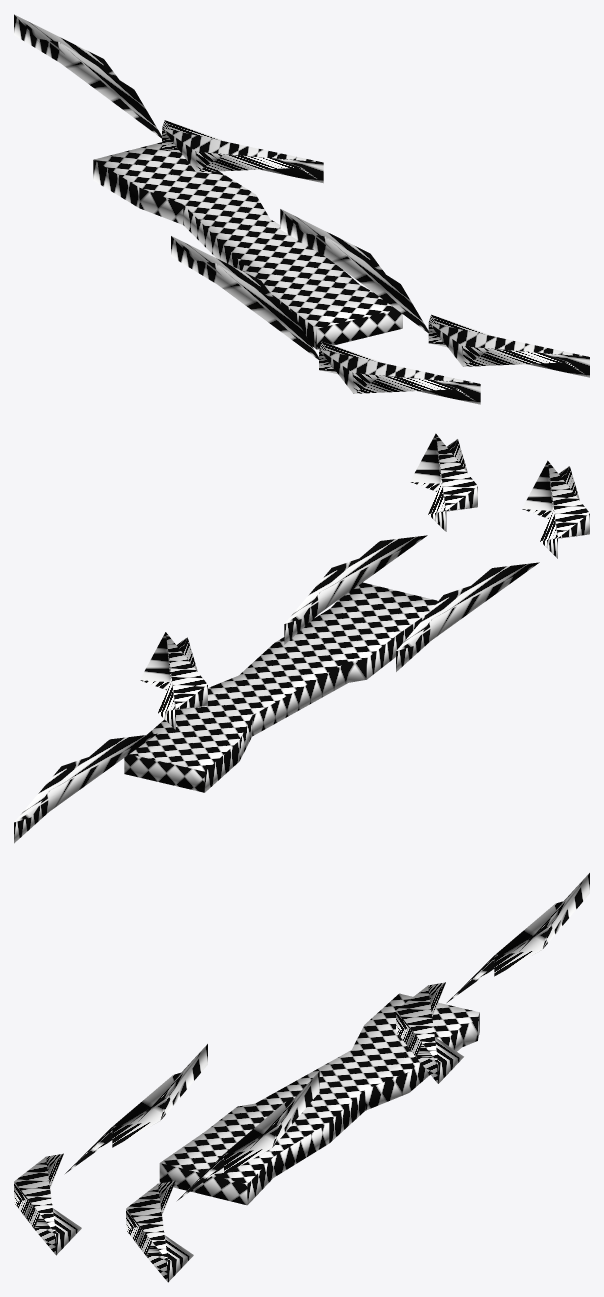
Rendered from stbr20.dae.
3 views of the same model, one above another, from view 1: azimuth 30°, elevation 25°; view 2: azimuth 150°, elevation 25°; view 3: azimuth 330°, elevation 25° (orthographic).
Visible parts, largest first — view 1: empty, tumba3, tumba4, tumba2; view 2: empty, tumba3, tumba2, tumba4; view 3: empty, tumba3, tumba4, tumba2.
Boxes of the visible parts, bbox=[...] form: empty: bbox=[93, 142, 402, 349]; tumba3: bbox=[280, 209, 589, 377]; tumba4: bbox=[171, 236, 480, 404]; tumba2: bbox=[14, 14, 323, 183]; empty: bbox=[124, 582, 437, 792]; tumba3: bbox=[284, 433, 477, 644]; tumba2: bbox=[14, 632, 207, 843]; tumba4: bbox=[396, 460, 589, 671]; empty: bbox=[159, 993, 479, 1205]; tumba3: bbox=[126, 1071, 319, 1282]; tumba4: bbox=[14, 1044, 207, 1255]; tumba2: bbox=[396, 873, 589, 1083].
Size of the model in its own units: 4.93 by 21.64 by 1.33.
Materials: 1 (1 with a texture image).
